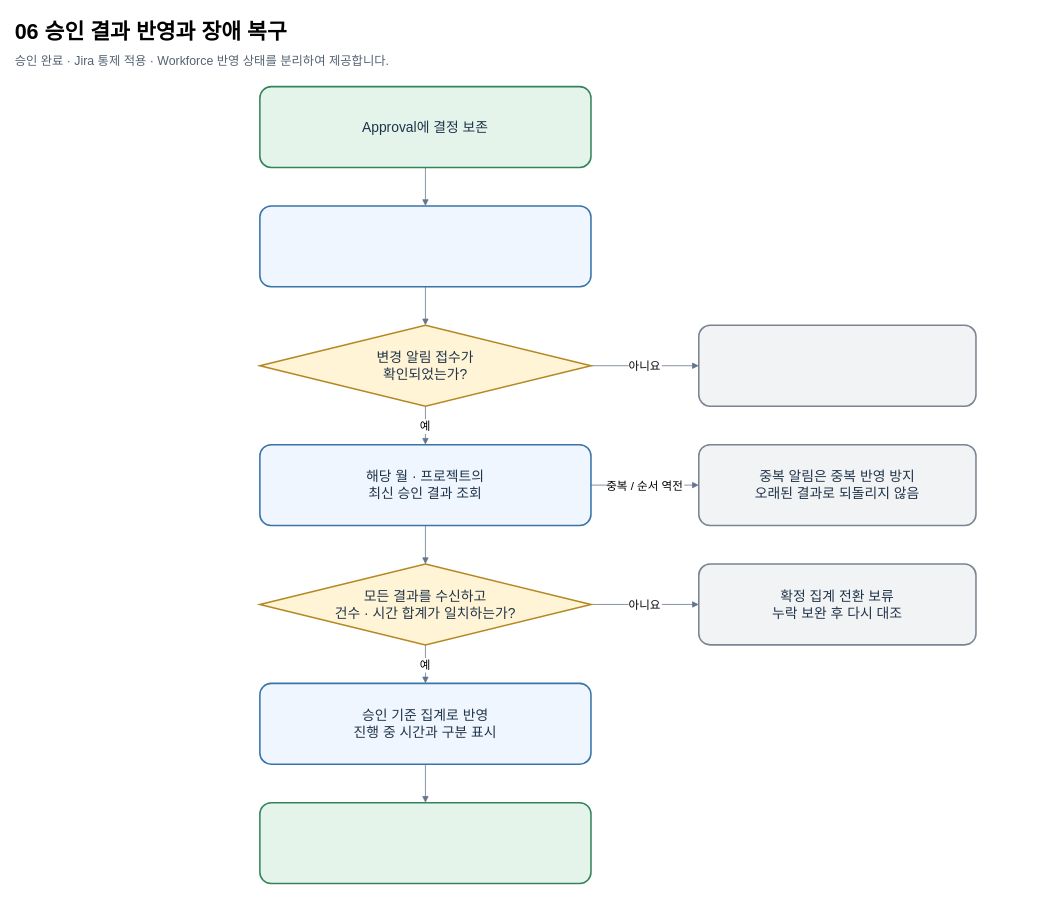
This 1043x897 diagram has some shape labels left out. The centre of each missing label's shape, as x and y in pixels:
"Workforce에 변경 알림 전달" goes at (425,246).
"보고서 · SAP 전달 자료 생성 동일 기준으로 대사" goes at (425,843).
"전달 대기 표시 · 재처리 기존 승인 결정은 보존" goes at (837,365).
